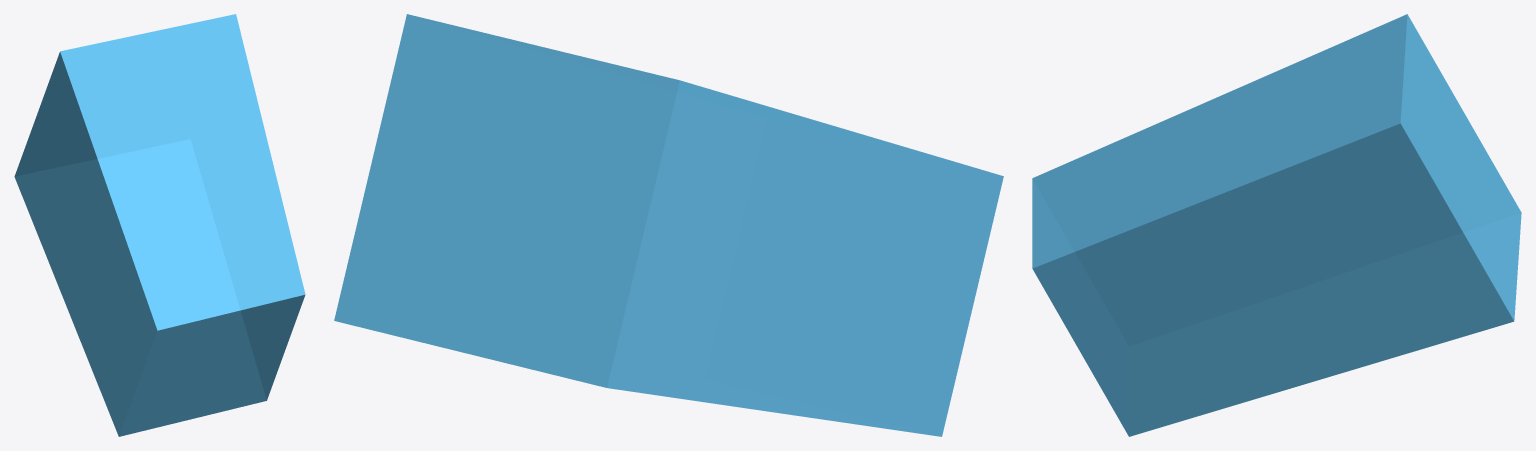
Rendered from Event_420094457_HBrechit_19.fbx.
The picture shows the model from 3 angles, left to right: view 1: azimuth 30°, elevation 25°; view 2: azimuth 150°, elevation 25°; view 3: azimuth 270°, elevation 25°; orthographic projection. The views are drawn at different scales.
Visible parts, largest first — view 1: Model; view 2: Model; view 3: Model.
Part boxes in pixels (bbox=[...]): Model: bbox=[14, 14, 305, 436]; Model: bbox=[334, 14, 1003, 436]; Model: bbox=[1032, 14, 1521, 436].
Bounding box in the file's own units: 0.6255 × 0.7717 × 0.9385.
